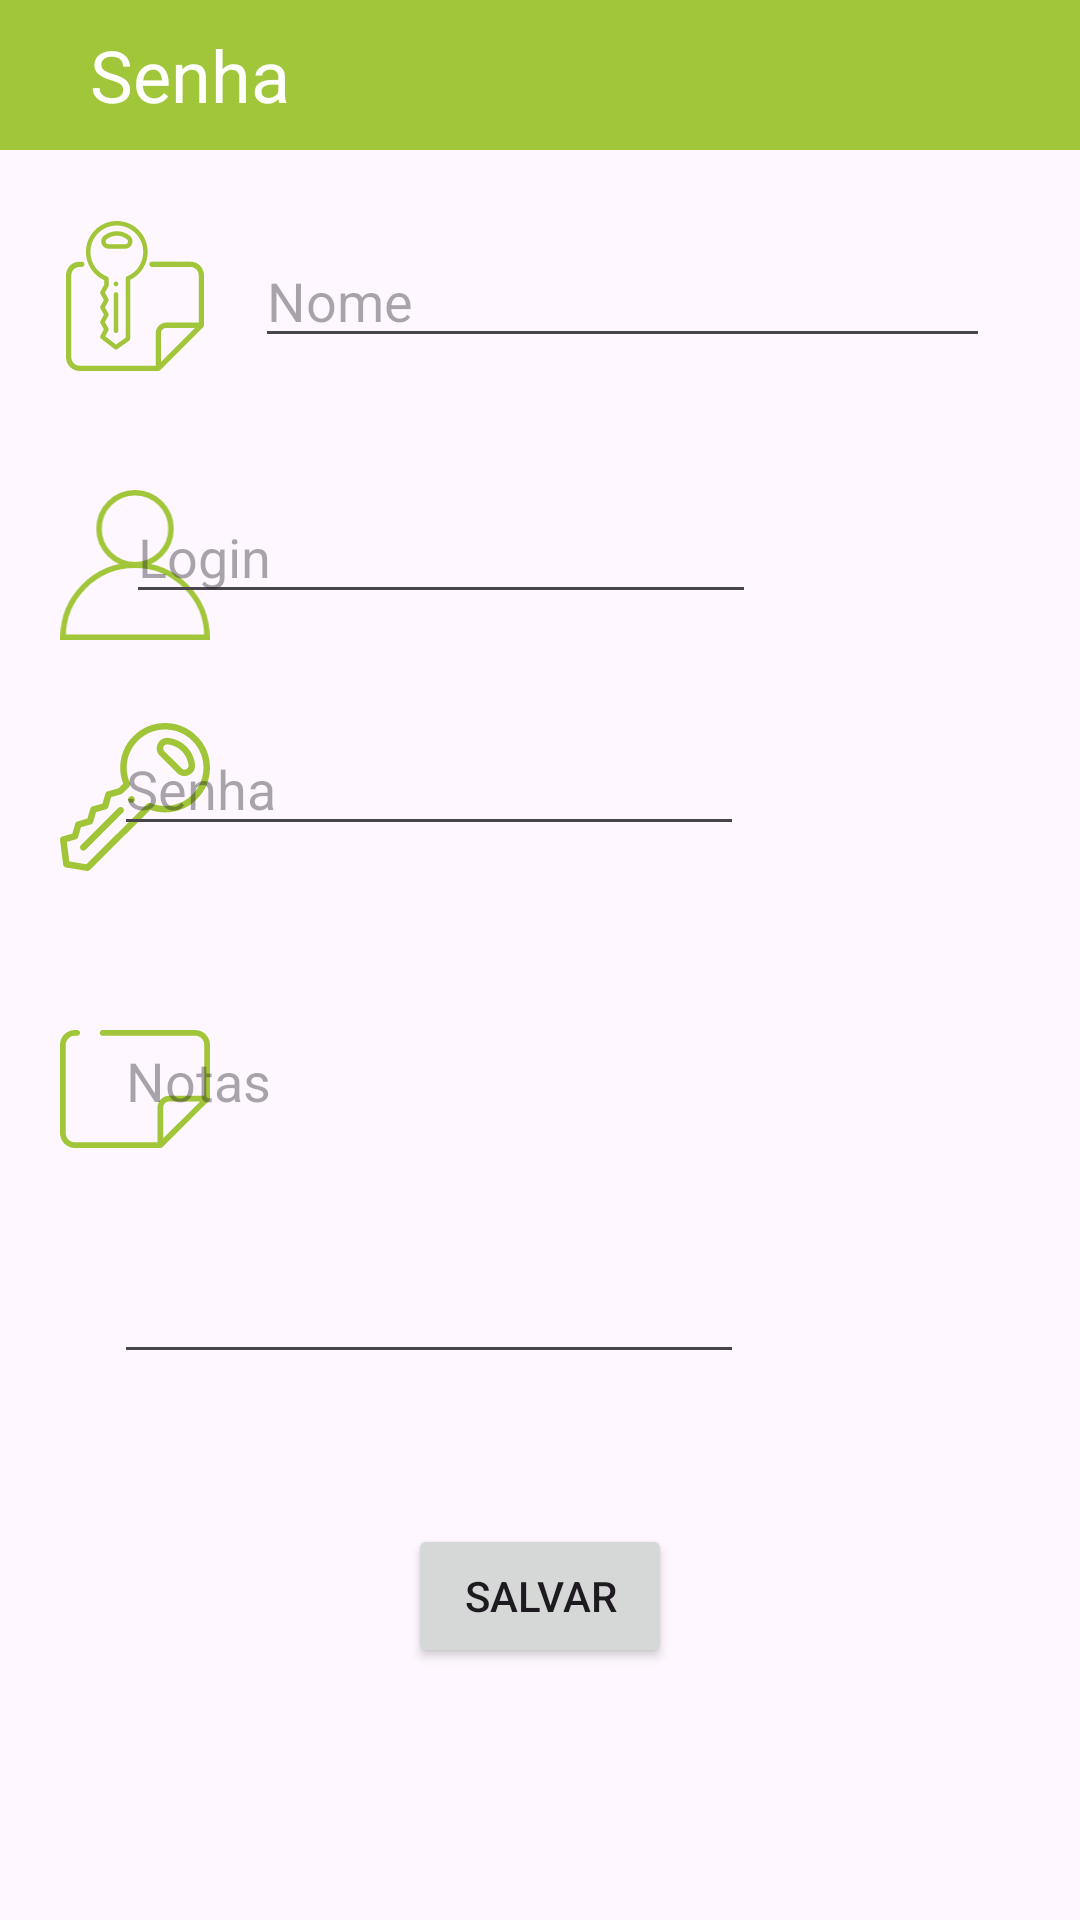

Named icons in this screenshot (1080x1920) and their bounding boxes, region(x1, y1, x2, y2):
add key: region(60, 723, 210, 871)
add user: region(60, 490, 210, 640)
